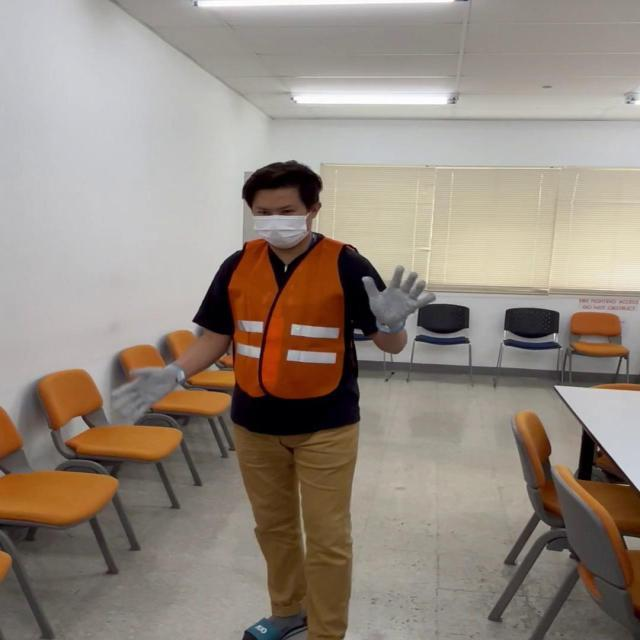gloved_hand: (354, 262, 430, 334), (108, 360, 181, 414)
